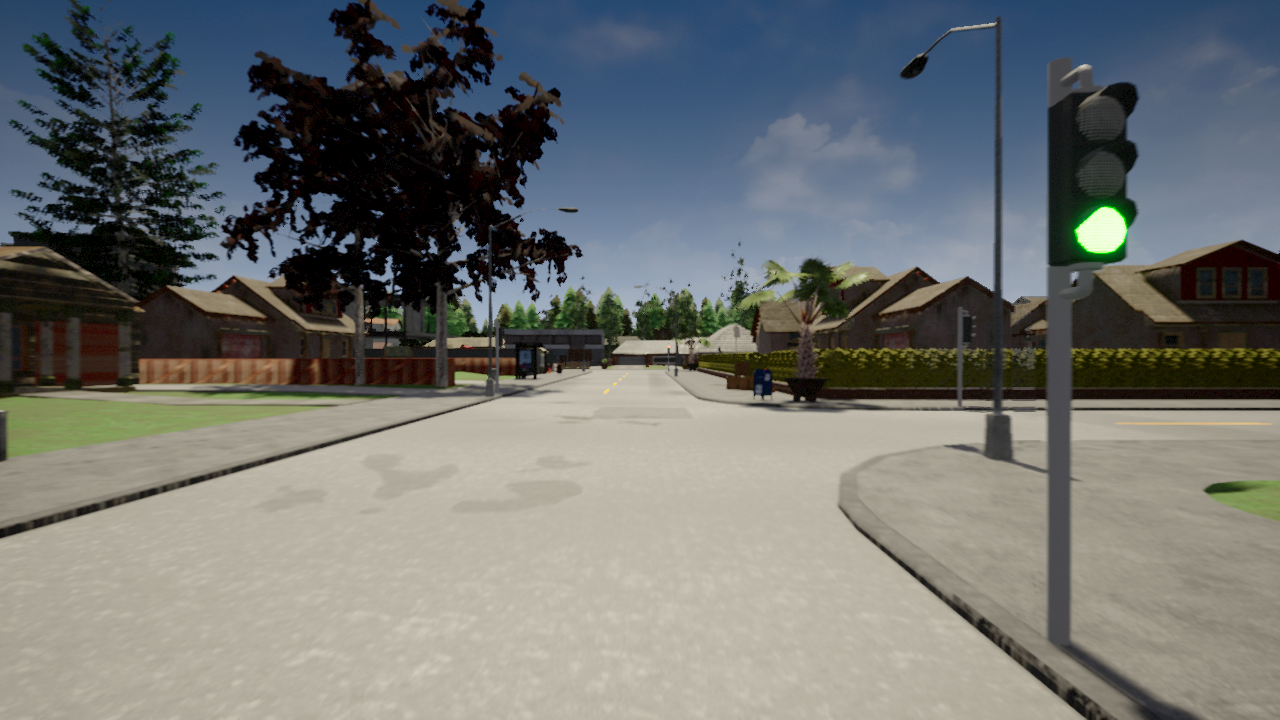green: (1042, 83, 1141, 266)
